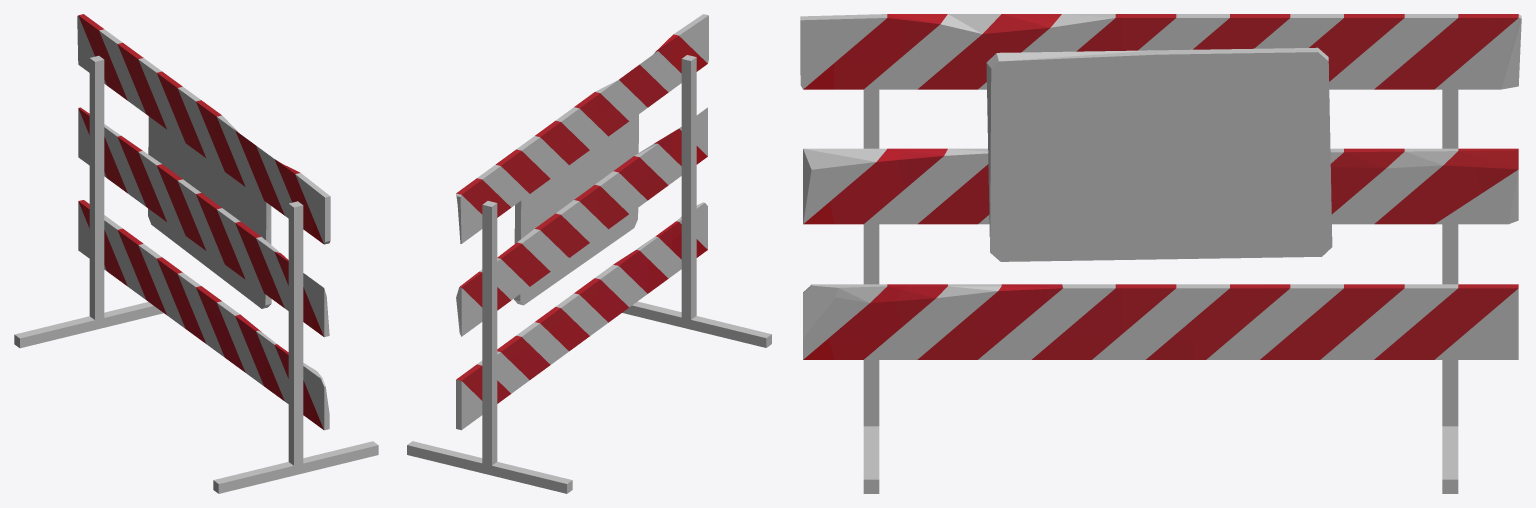
Rendered from RoadBlock01.fbx.
3 renders of one model, left to right at view 1: azimuth 30°, elevation 25°; view 2: azimuth 150°, elevation 25°; view 3: azimuth 270°, elevation 25°, orthographic. The views are drawn at different scales.
Visible parts, largest first — view 1: SM_Sign_Roadlblock_02.mo; view 2: SM_Sign_Roadlblock_02.mo; view 3: SM_Sign_Roadlblock_02.mo.
Part boxes in pixels (bbox=[...]): SM_Sign_Roadlblock_02.mo: bbox=[14, 14, 378, 493]; SM_Sign_Roadlblock_02.mo: bbox=[407, 14, 771, 493]; SM_Sign_Roadlblock_02.mo: bbox=[800, 14, 1521, 493].
Bounding box in the file's own units: 57.21 × 100 × 154.
